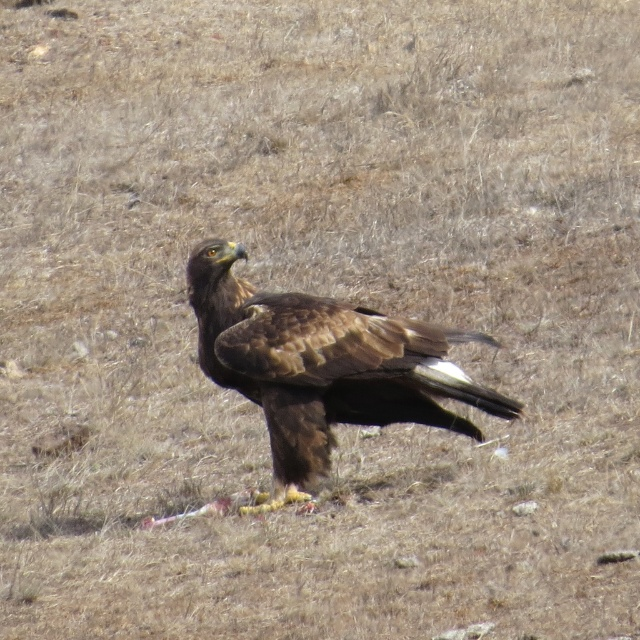Eagle: (181, 239, 527, 513)
